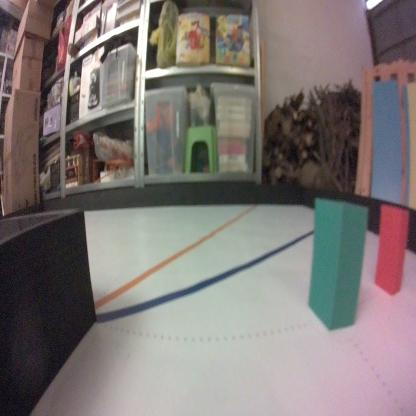green: (304, 193, 369, 334)
red: (373, 203, 408, 299)
